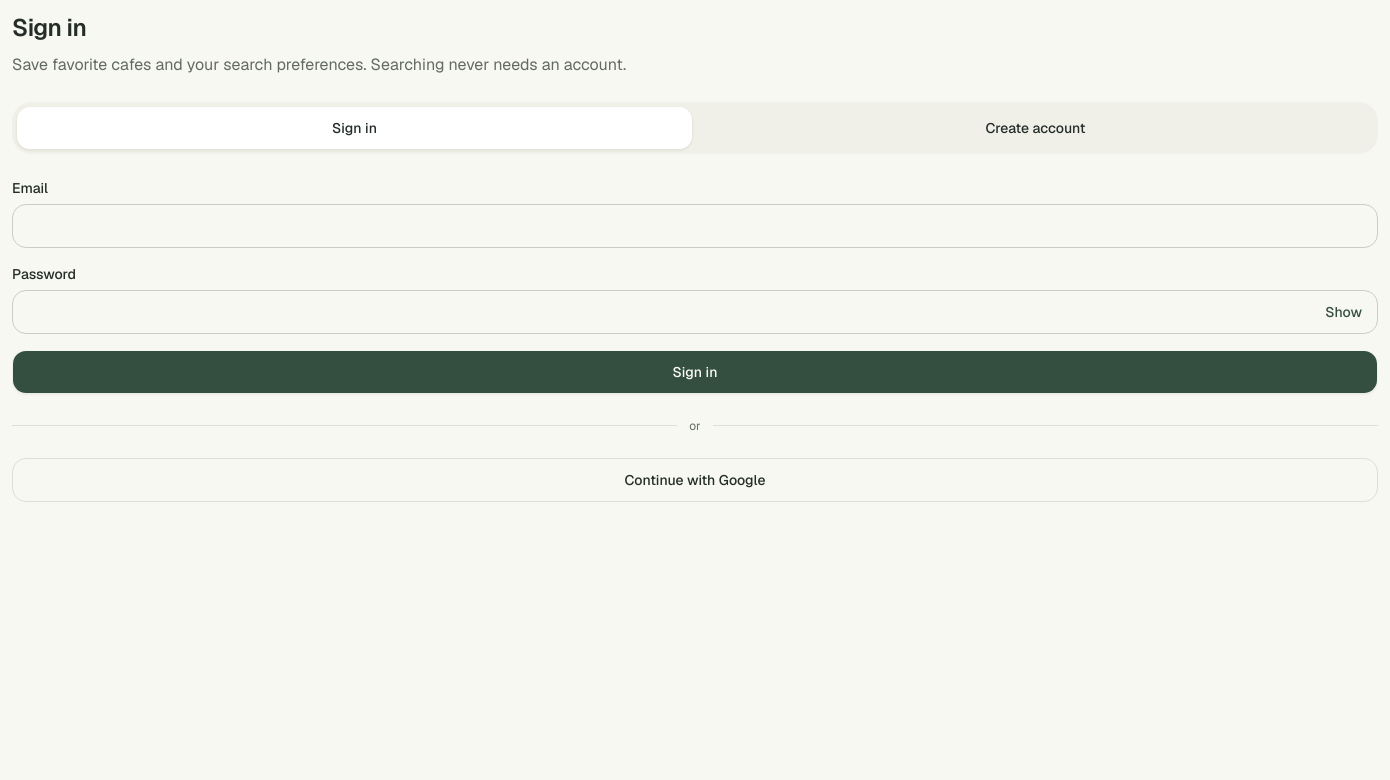
Scenario: LoginView › confirms sign-up without revealing whether the email exists
Click the button "Create account". click: (1036, 128)
box: [697,106,1374,150]
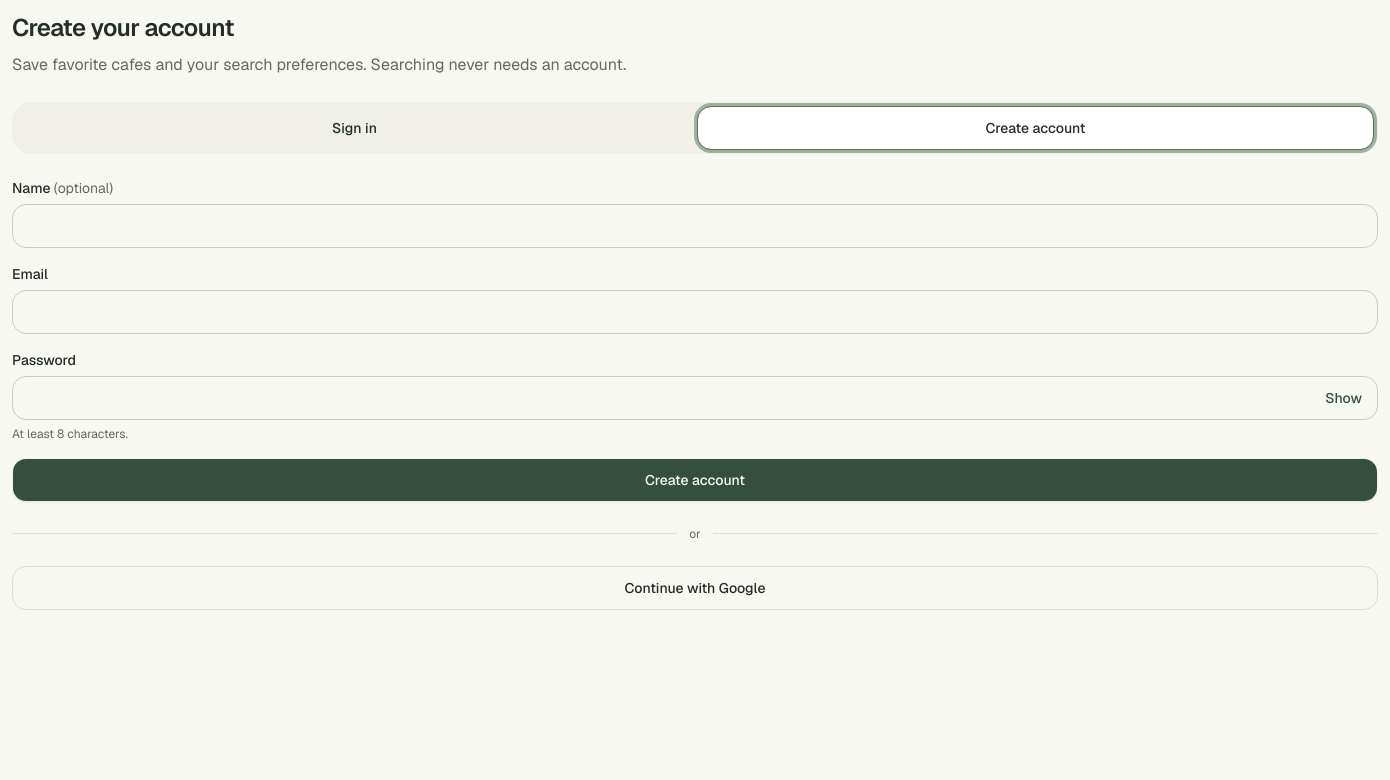
Type "new@example.test" into the field labelled "Email". click: (695, 312)
box: [12,290,1378,334]
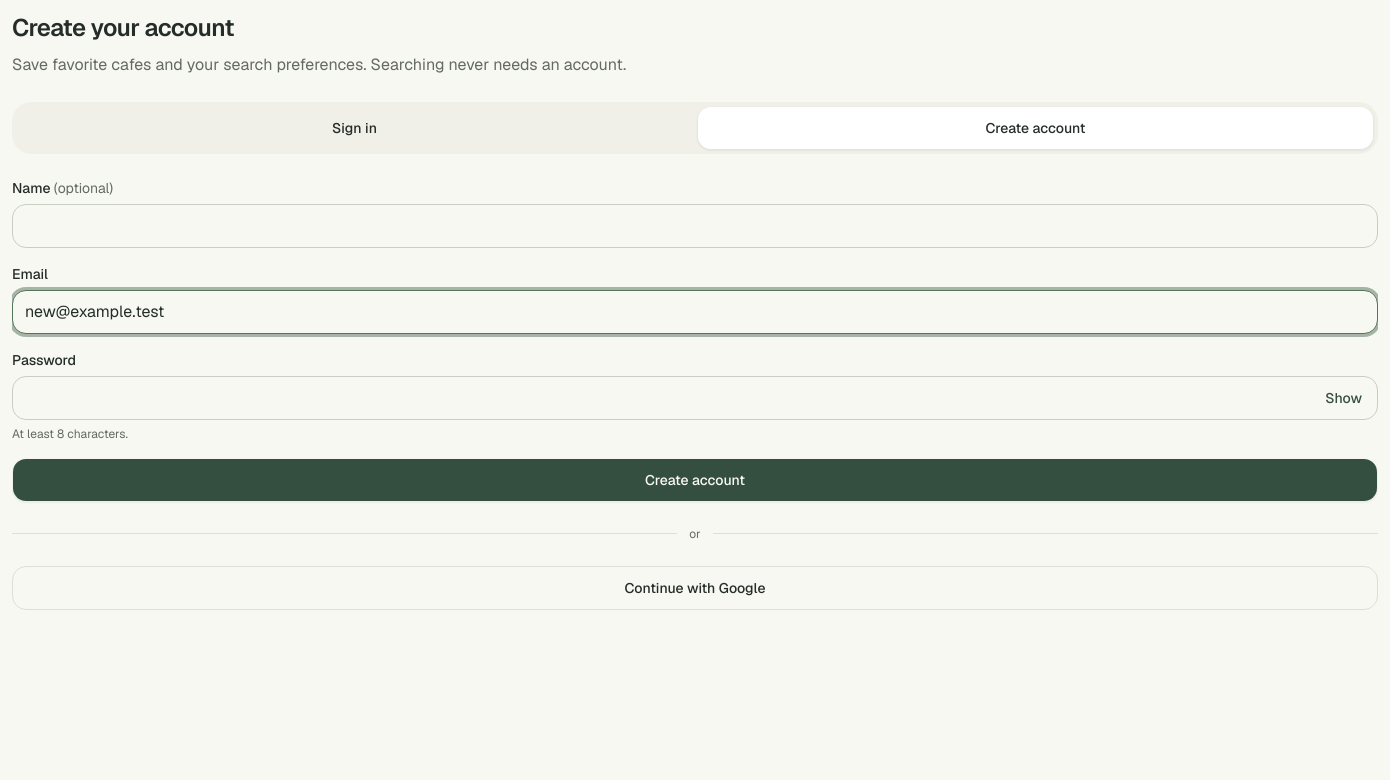
Type "long enough password" into the password field labelled "Password". click: (695, 398)
box: [12,376,1378,420]
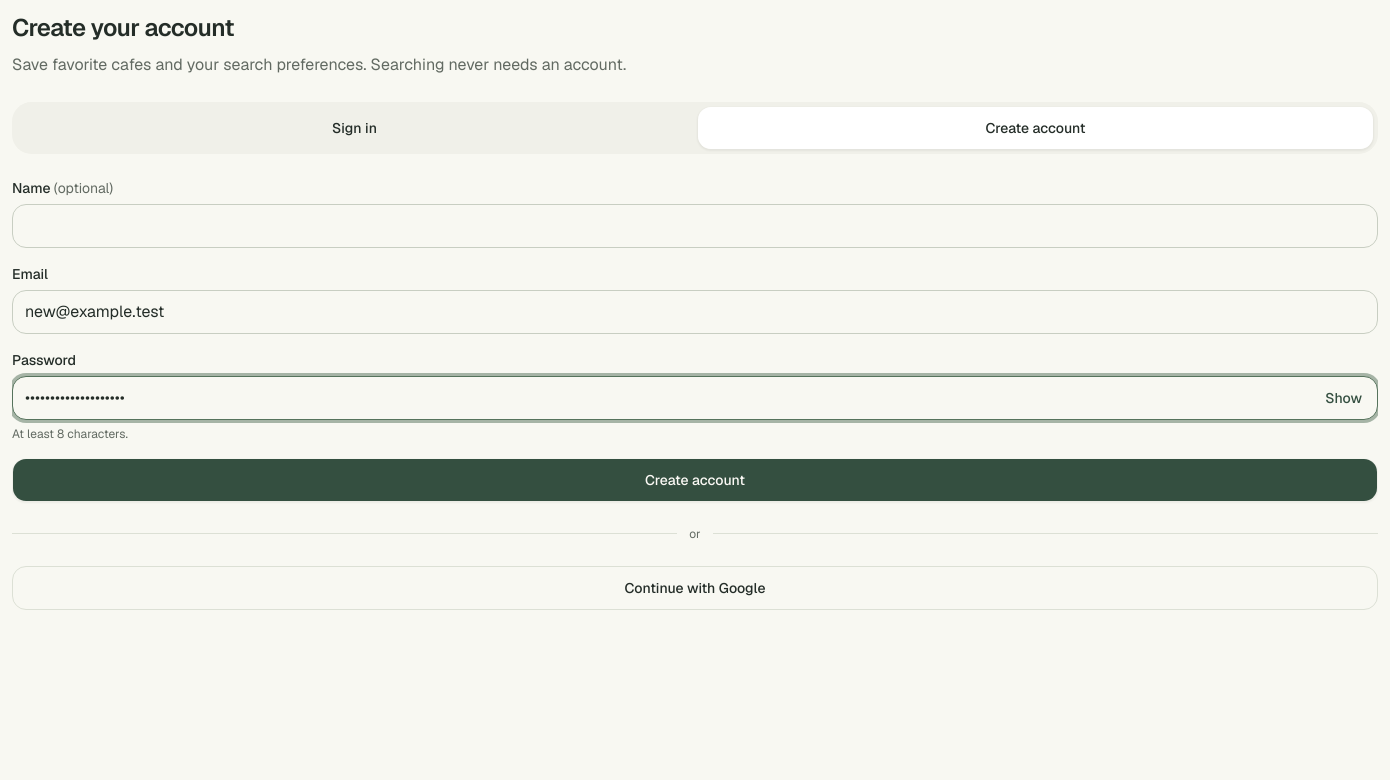
Click the submit button. click: (695, 480)
box: [12,458,1378,502]
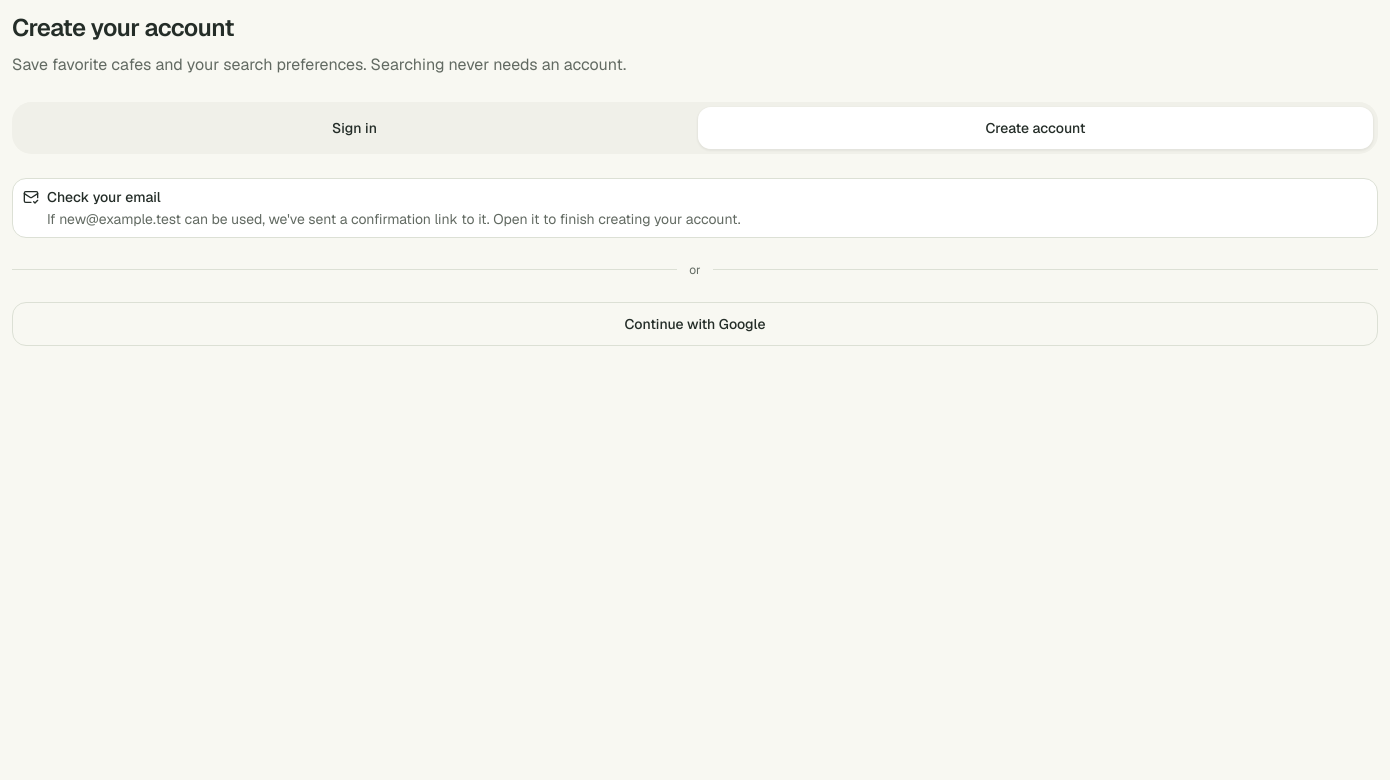
Expected: the text "Check your email" is shown, [47,188,161,206]
Expected: the text "If new@example.test can be used" is shown, [47,210,741,228]
